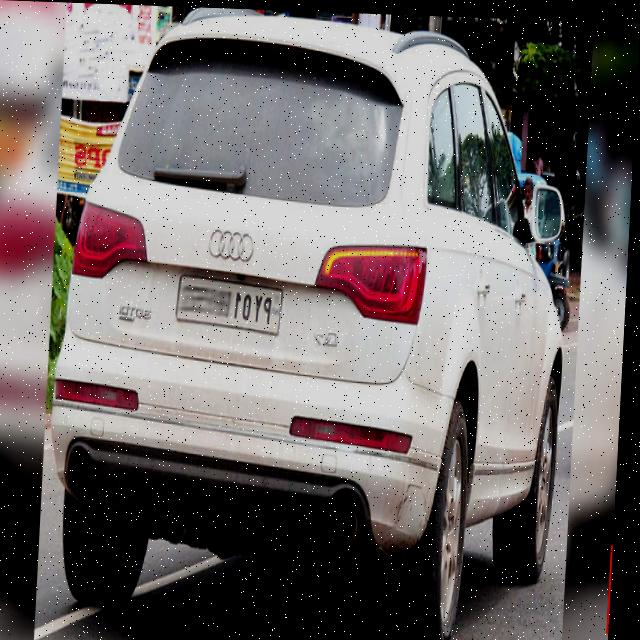plate: (178, 274, 291, 330)
